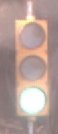Green: (9, 14, 53, 122)
